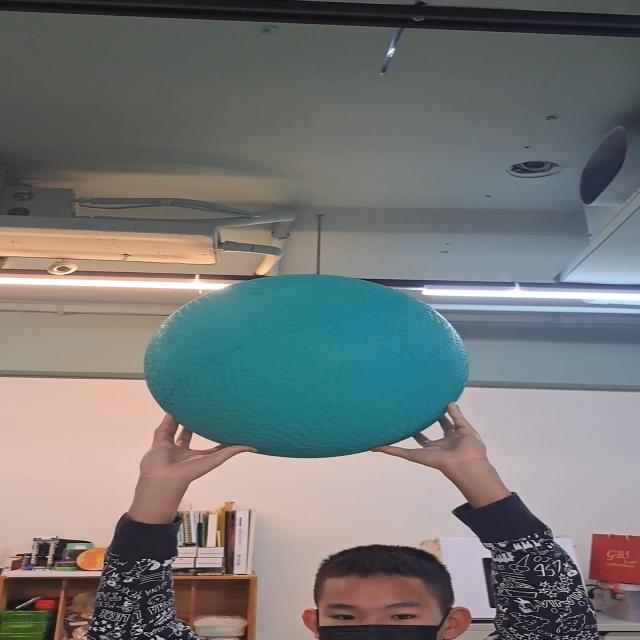ALGAE: (143, 274, 466, 458)
